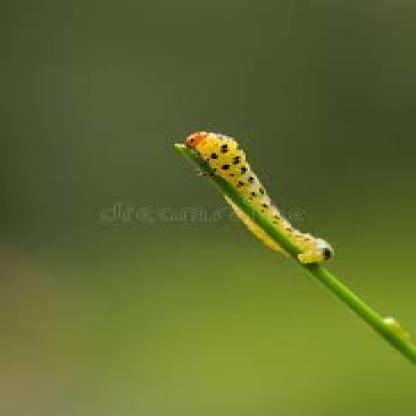sawfly: (182, 121, 341, 271)
